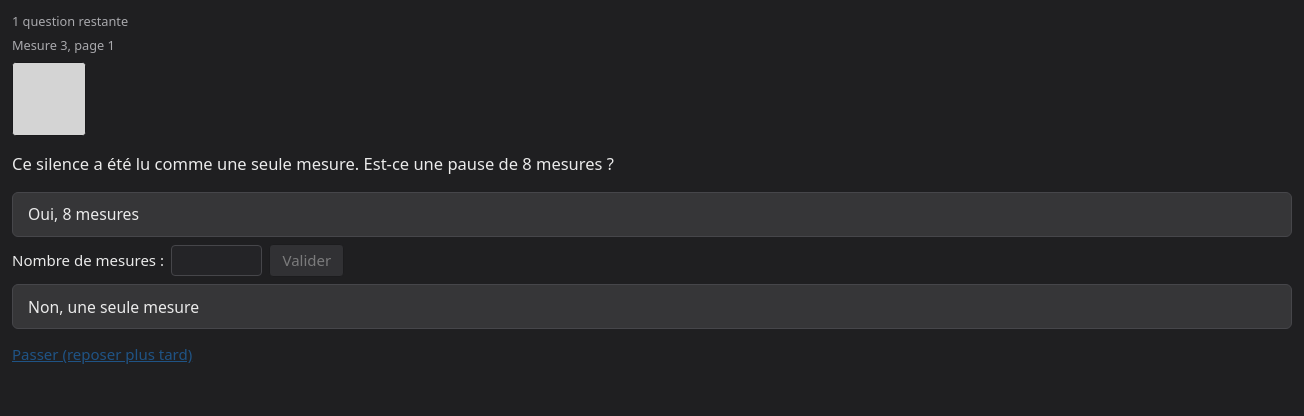
Scenario: QuestionPanel › affiche une erreur du moteur
What coordinates should you click on to do the following:
click the button "Oui, 8 mesures"
I would click on:
 (84, 214)
Its box is [12,192,1292,237].
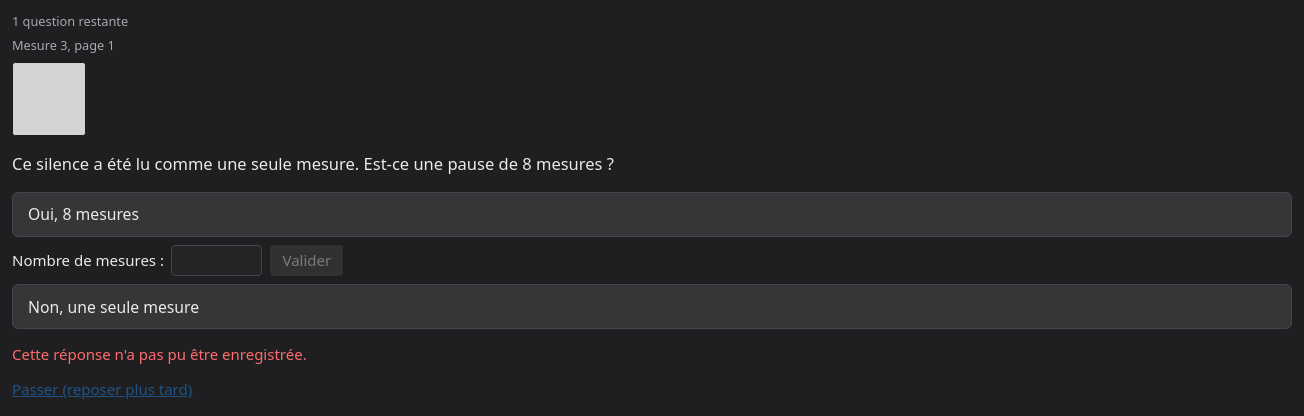
Expected: the text "Cette réponse n'a pas pu être enregistrée." is shown, [12,344,307,364]
